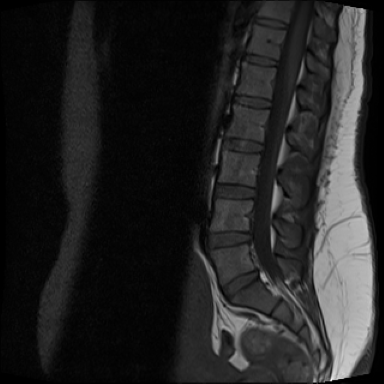Lumbar Disc Bulge (LDB): (218, 269, 264, 306), (209, 230, 259, 254)
Normal IVD: (214, 181, 261, 204), (223, 136, 268, 158), (231, 94, 276, 112), (240, 53, 282, 71), (253, 17, 290, 32)
Spinal Stenosis (SS): (247, 230, 260, 249), (253, 268, 266, 285)
